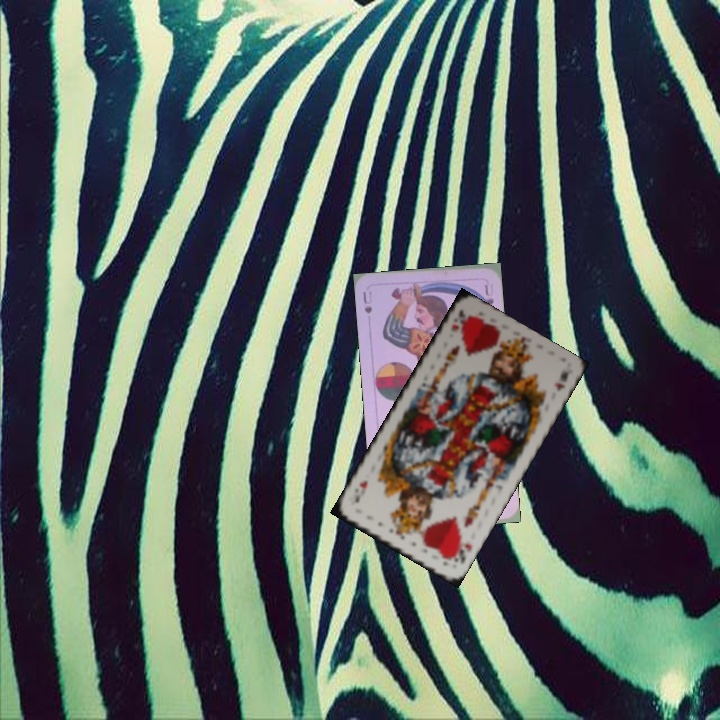HK: (446, 538, 475, 566), (447, 306, 472, 335)
SU: (359, 287, 375, 316)
